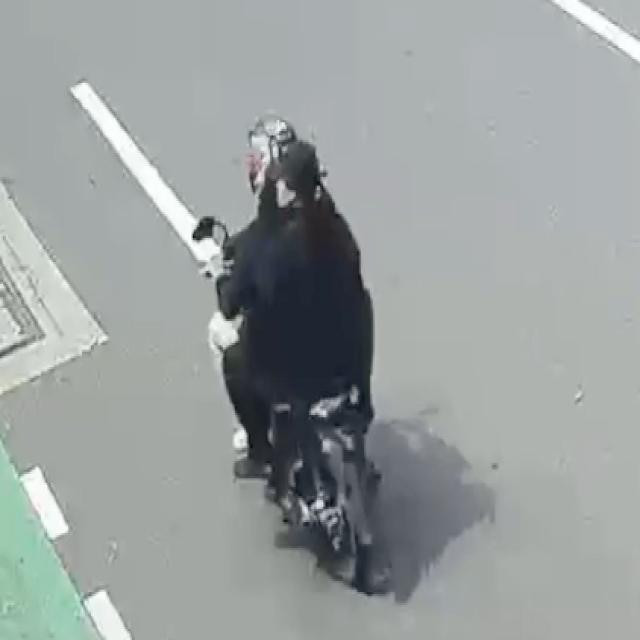helm: (238, 111, 311, 201)
motor: (167, 90, 433, 616)
spion: (181, 208, 228, 250)
